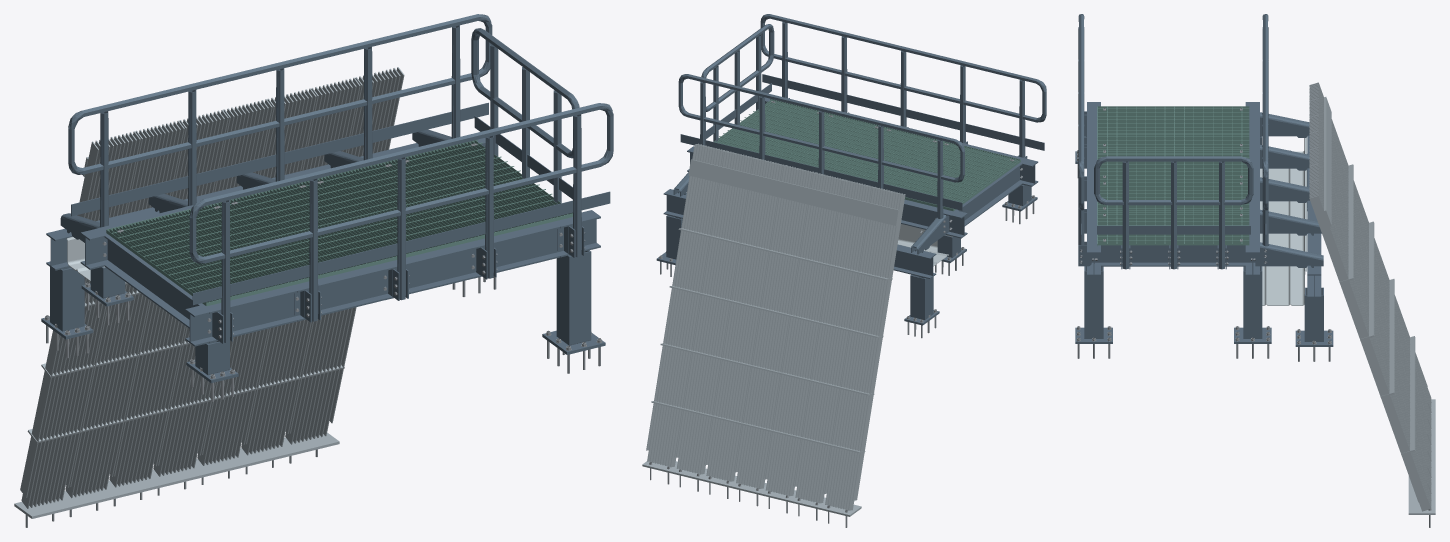
The model's file is SantaRosa_Modelo.glb.
3 views of the same model, side by side, from view 1: azimuth 30°, elevation 25°; view 2: azimuth 150°, elevation 25°; view 3: azimuth 270°, elevation 25° (orthographic). The views are drawn at different scales.
Parts seen in each view (by area): view 1: BA-0221 · Baranda lado posterior 3.80m, BA-0220 · Baranda lado rejilla 3.80m, PL-0146 · Viga longitudinal WF10-30, PL-0216 · Grating panel 1 1580x1040, PL-0218 · Grating panel 3 1580x780, PL-0219 · Grating panel 4 1580x780, PL-0217 · Grating panel 2 1580x780, BA-0222 · Baranda lado demasias 1.60m, PL-0151 · Viga transversal WF10-30, PL-0149 · Apoyo tubular 200x200x12, BC-0228 · Apoyo de bandeja 200x200x12, R01-0001 · Item4 - platina exterior con encajes (+68 smaller); view 2: BA-0221 · Baranda lado posterior 3.80m, BA-0220 · Baranda lado rejilla 3.80m, PL-0216 · Grating panel 1 1580x1040, PL-0218 · Grating panel 3 1580x780, PL-0219 · Grating panel 4 1580x780, PL-0217 · Grating panel 2 1580x780, BA-0222 · Baranda lado demasias 1.60m, R01-0001 · Item4 - platina exterior con encajes, BC-0227 · Viga principal WF10-30, PL-0151 · Viga transversal WF10-30, PL-0141 · Viga longitudinal WF10-30, R06-0102 · Item3 - platina interior con encajes (+92 smaller); view 3: PL-0216 · Grating panel 1 1580x1040, BA-0222 · Baranda lado demasias 1.60m, PL-0217 · Grating panel 2 1580x780, PL-0218 · Grating panel 3 1580x780, PL-0219 · Grating panel 4 1580x780, BC-0237 · Bandeja inox - fondo con dos nervaduras y esquinas, R07-0132 · Item4 - platina exterior con encajes, PL-0203 · Viga transversal WF10-30, PL-0146 · Viga longitudinal WF10-30, PL-0141 · Viga longitudinal WF10-30, BA-0220 · Baranda lado rejilla 3.80m, BA-0221 · Baranda lado posterior 3.80m (+10 smaller).
Boxes of the visible parts, bbox=[...] form: BA-0221 · Baranda lado posterior 3.80m: bbox=[189, 103, 613, 342]; BA-0220 · Baranda lado rejilla 3.80m: bbox=[68, 14, 492, 227]; PL-0146 · Viga longitudinal WF10-30: bbox=[185, 210, 600, 346]; PL-0216 · Grating panel 1 1580x1040: bbox=[106, 202, 320, 306]; PL-0218 · Grating panel 3 1580x780: bbox=[306, 160, 485, 257]; PL-0219 · Grating panel 4 1580x780: bbox=[392, 139, 572, 235]; PL-0217 · Grating panel 2 1580x780: bbox=[220, 181, 406, 278]; BA-0222 · Baranda lado demasias 1.60m: bbox=[471, 28, 579, 203]; PL-0151 · Viga transversal WF10-30: bbox=[96, 225, 221, 342]; PL-0149 · Apoyo tubular 200x200x12: bbox=[556, 250, 591, 345]; BC-0228 · Apoyo de bandeja 200x200x12: bbox=[50, 267, 84, 331]; R01-0001 · Item4 - platina exterior con encajes: bbox=[20, 141, 98, 497]; BA-0221 · Baranda lado posterior 3.80m: bbox=[760, 14, 1046, 157]; BA-0220 · Baranda lado rejilla 3.80m: bbox=[678, 74, 964, 218]; PL-0216 · Grating panel 1 1580x1040: bbox=[886, 141, 1020, 211]; PL-0218 · Grating panel 3 1580x780: bbox=[771, 113, 885, 169]; PL-0219 · Grating panel 4 1580x780: bbox=[714, 99, 827, 155]; PL-0217 · Grating panel 2 1580x780: bbox=[829, 127, 943, 183]; BA-0222 · Baranda lado demasias 1.60m: bbox=[701, 24, 774, 141]; R01-0001 · Item4 - platina exterior con encajes: bbox=[852, 194, 905, 500]; BC-0227 · Viga principal WF10-30: bbox=[663, 189, 936, 278]; PL-0151 · Viga transversal WF10-30: bbox=[943, 162, 1023, 235]; PL-0141 · Viga longitudinal WF10-30: bbox=[687, 146, 967, 238]; R06-0102 · Item3 - platina interior con encajes: bbox=[700, 157, 754, 474]; PL-0216 · Grating panel 1 1580x1040: bbox=[1097, 106, 1249, 148]; BA-0222 · Baranda lado demasias 1.60m: bbox=[1094, 156, 1253, 269]; PL-0217 · Grating panel 2 1580x780: bbox=[1097, 148, 1249, 180]; PL-0218 · Grating panel 3 1580x780: bbox=[1097, 180, 1249, 211]; PL-0219 · Grating panel 4 1580x780: bbox=[1097, 212, 1249, 245]; BC-0237 · Bandeja inox - fondo con dos nervaduras y esquinas: bbox=[1260, 150, 1304, 305]; R07-0132 · Item4 - platina exterior con encajes: bbox=[1309, 195, 1427, 502]; PL-0203 · Viga transversal WF10-30: bbox=[1087, 237, 1259, 266]; PL-0146 · Viga longitudinal WF10-30: bbox=[1087, 102, 1100, 275]; PL-0141 · Viga longitudinal WF10-30: bbox=[1245, 102, 1259, 275]; BA-0220 · Baranda lado rejilla 3.80m: bbox=[1262, 14, 1268, 246]; BA-0221 · Baranda lado posterior 3.80m: bbox=[1078, 14, 1084, 244].
Bounding box in the file's own units: 3.86 × 4.43 × 3.75.
